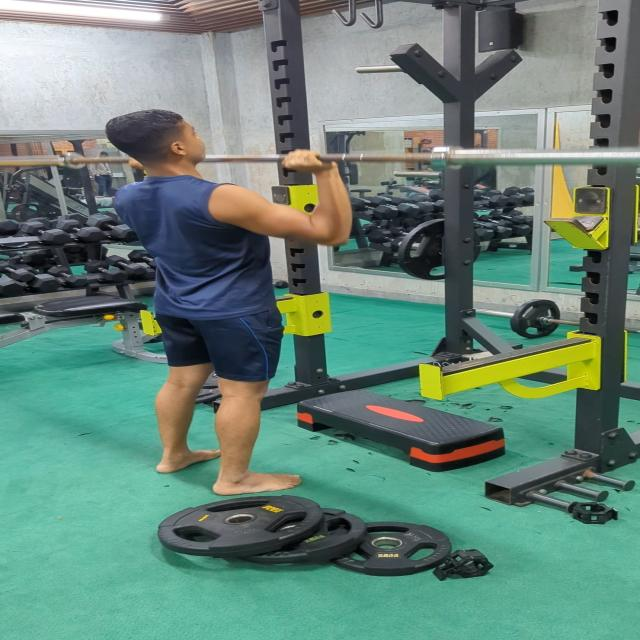Normal_OverheadPress: (80, 102, 367, 503)
